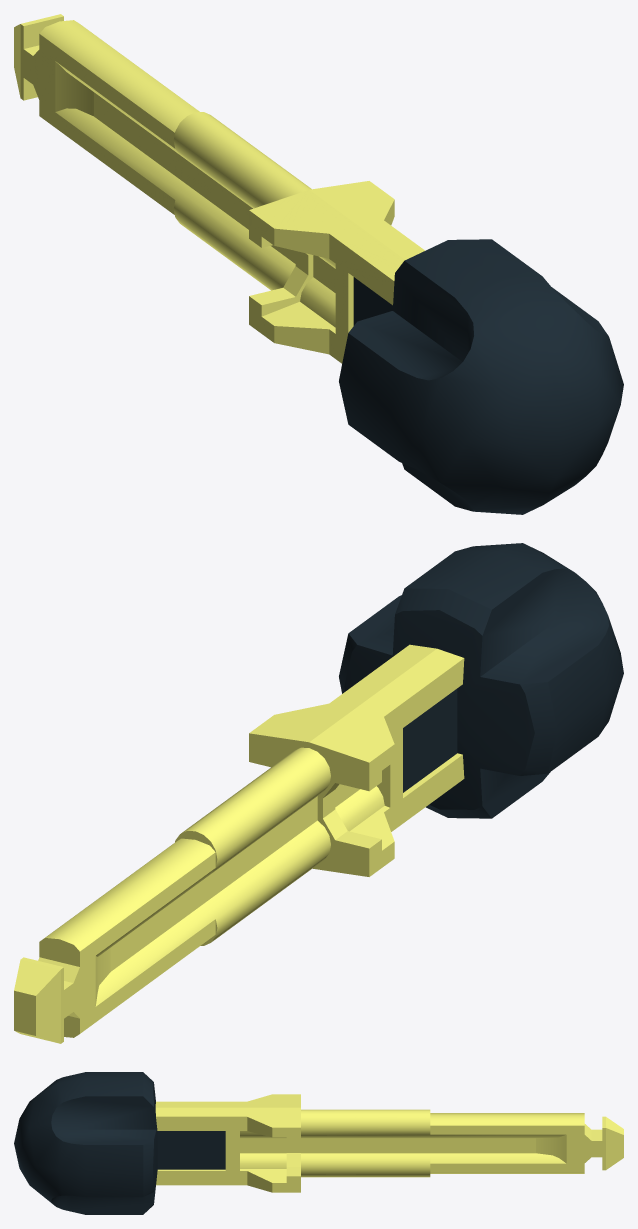
3 views of the same model, one above another, from view 1: azimuth 30°, elevation 25°; view 2: azimuth 150°, elevation 25°; view 3: azimuth 270°, elevation 25° (orthographic). The views are drawn at different scales.
Parts seen in each view (by area): view 1: 46537.dat; view 2: 46537.dat; view 3: 46537.dat.
Part boxes in pixels (x1,y1,x2,y2): 46537.dat: (14, 14, 623, 514); 46537.dat: (14, 543, 623, 1043); 46537.dat: (14, 1072, 623, 1214).
Bounding box in the file's own units: 0.016 × 0.016 × 0.068.
